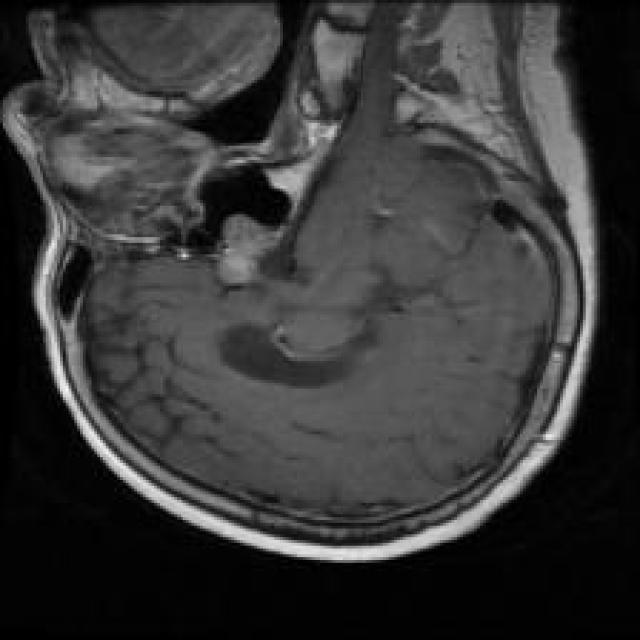pituitary_tumor: (208, 201, 320, 313)
